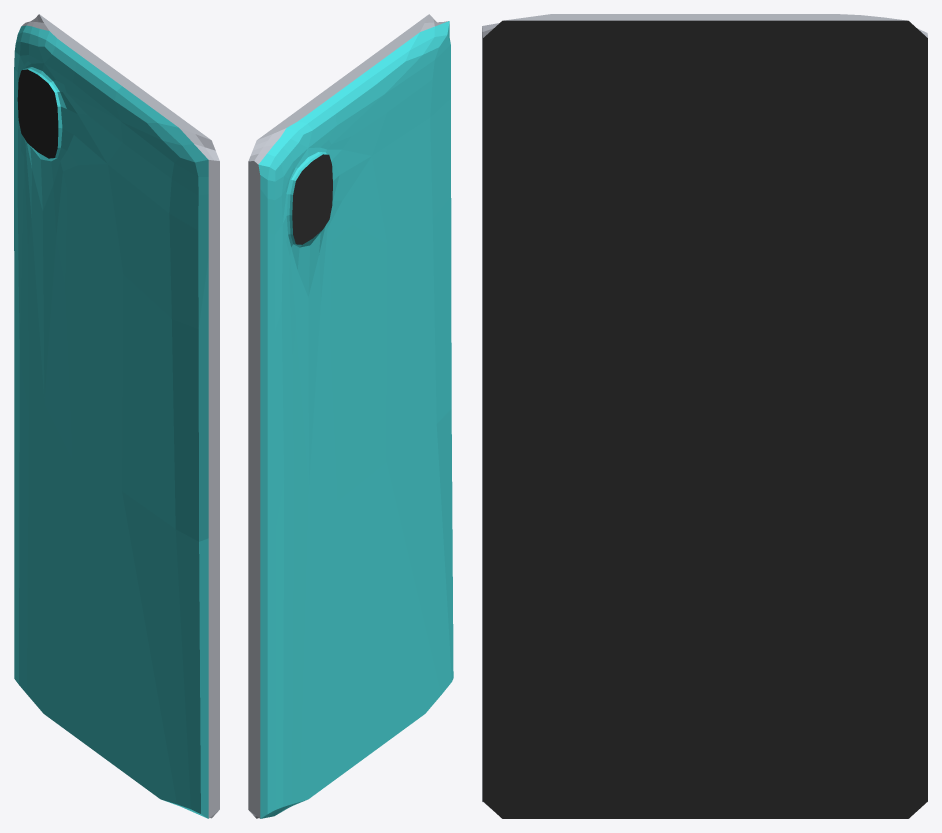
Rendered from Phone.fbx.
The picture shows the model from 3 angles, left to right: view 1: azimuth 30°, elevation 25°; view 2: azimuth 150°, elevation 25°; view 3: azimuth 270°, elevation 25°; orthographic projection. The views are drawn at different scales.
Visible parts, largest first — view 1: Plane; view 2: Plane; view 3: Plane.
Boxes of the visible parts, box(x1,y1,x2,y2) form: Plane: box(14, 14, 219, 818); Plane: box(248, 14, 453, 818); Plane: box(482, 14, 927, 818).
Size of the model in its own units: 0.7116 by 16.18 by 8.19.
